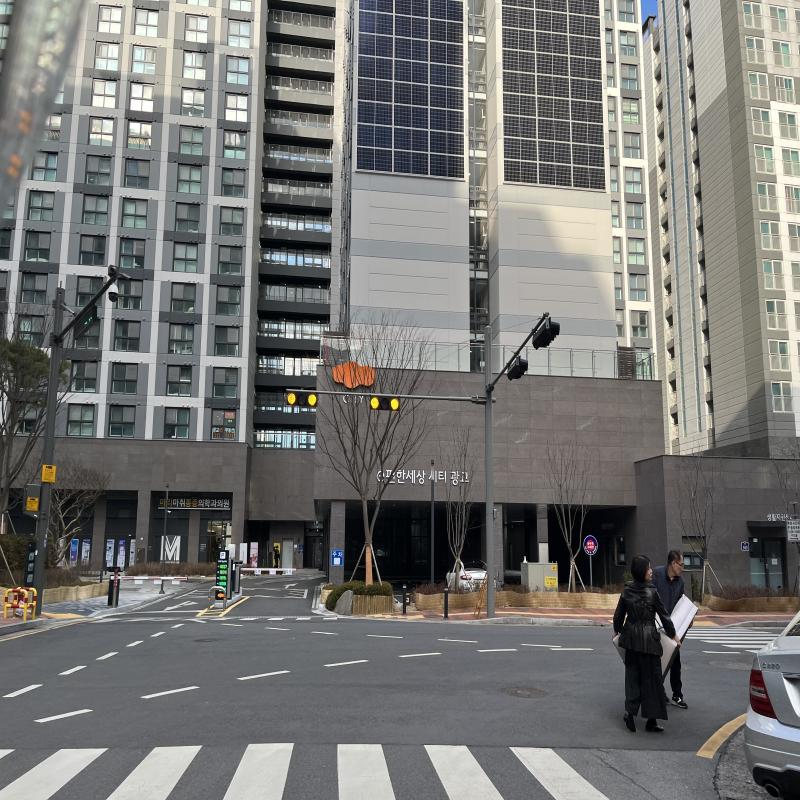yellow: (370, 396, 380, 409), (308, 393, 318, 405), (390, 398, 400, 410), (287, 392, 296, 404)
